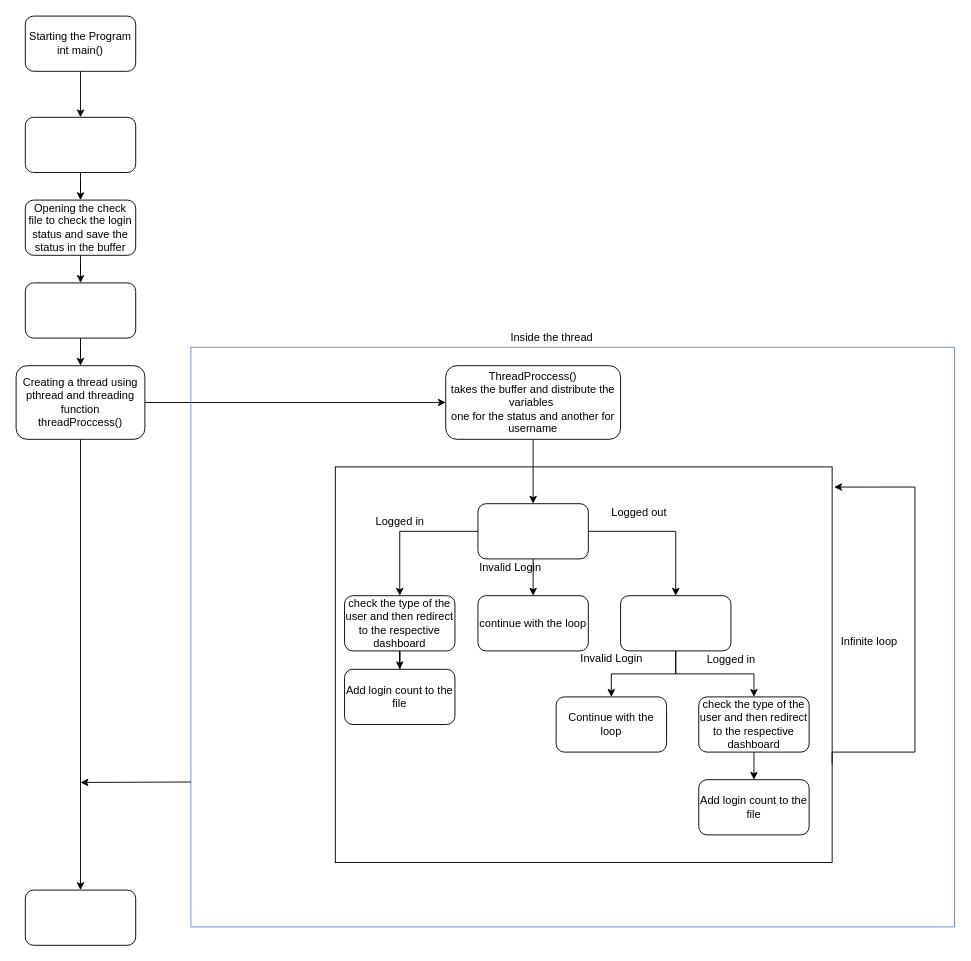
Image size: 971x961. Some labels were removed from this diagram. The centre of each missing label's shape, as x and y in pixels:
"closing the check file" goes at point 80,310.
"Defining a buffer defining threadID adding permissions" goes at point 80,144.
"prompt the user to sign again" goes at point 675,623.
"The thread is Joined with the main process" goes at point 80,917.
"Use the status to check whether the user can login or not" goes at point 532,531.
